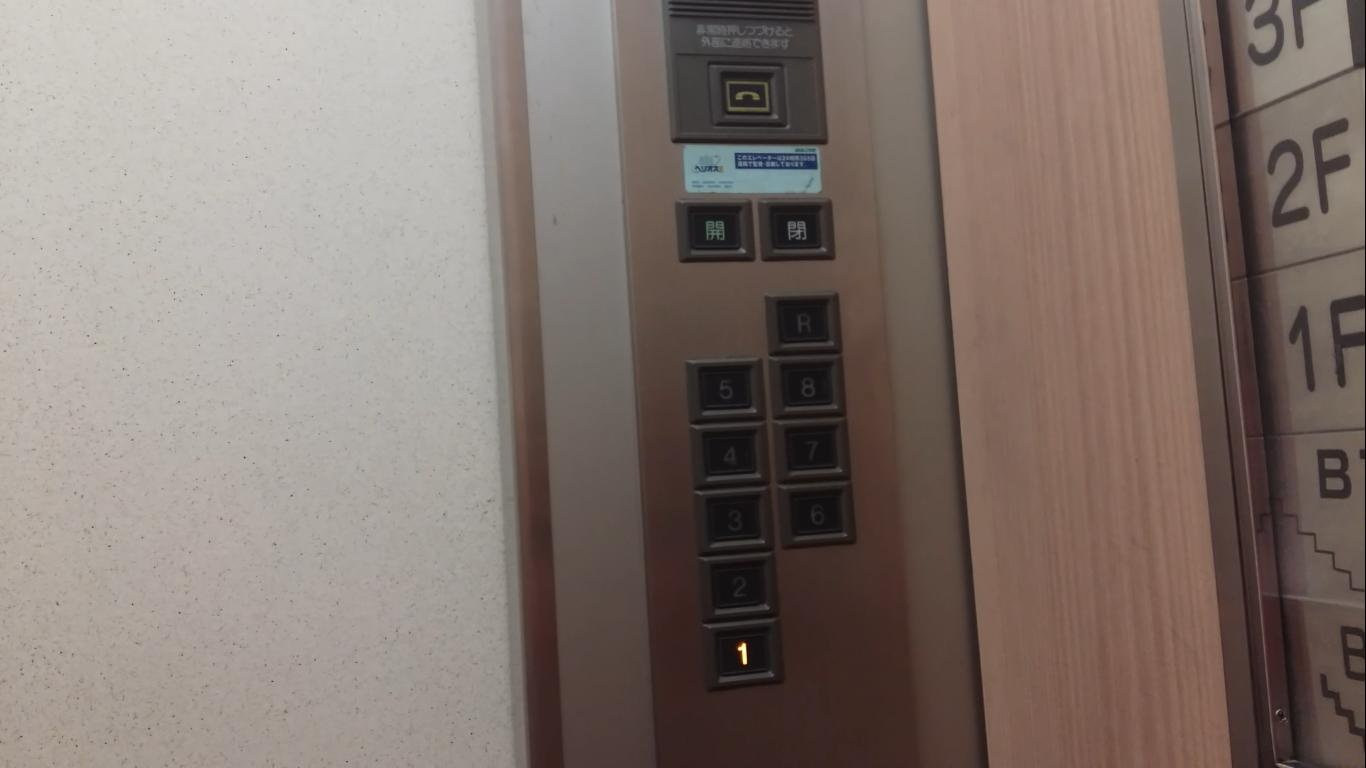1: (696, 619, 785, 694)
2: (692, 555, 780, 621)
3: (691, 488, 775, 558)
4: (687, 420, 772, 491)
5: (683, 354, 768, 426)
6: (775, 483, 859, 549)
7: (769, 419, 853, 486)
8: (766, 354, 849, 421)
R: (763, 290, 846, 356)
call: (721, 73, 774, 118)
text_close: (755, 194, 839, 266)
text_open: (672, 196, 758, 267)
